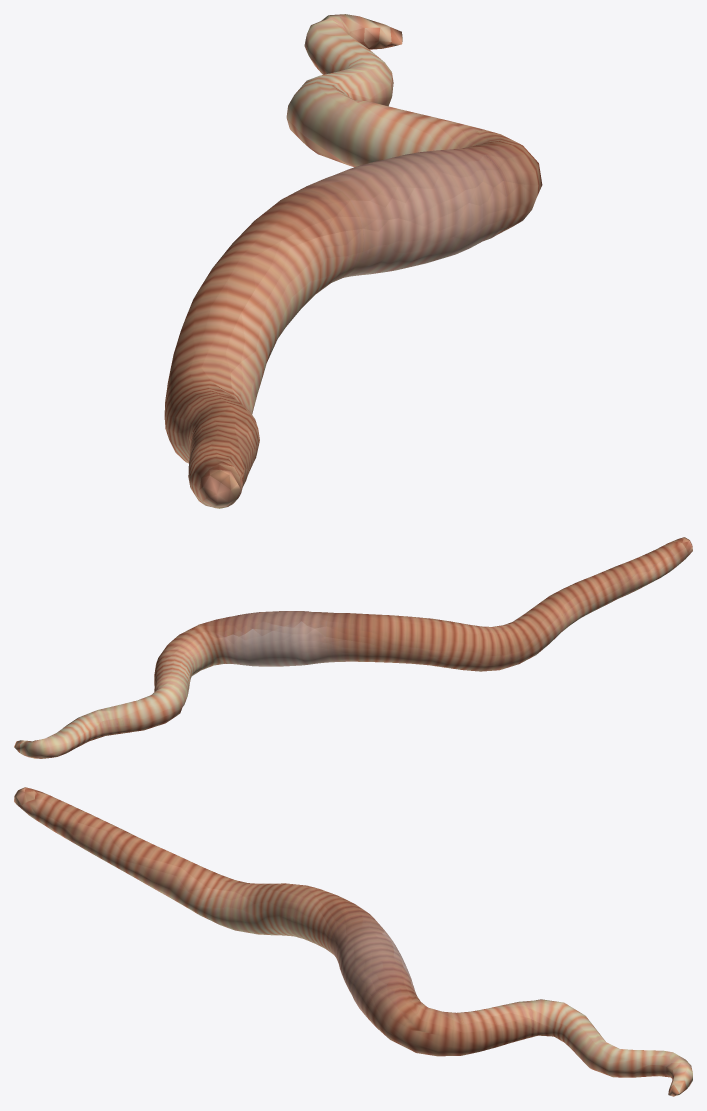
File: worm2.gltf
3 views of the same model, one above another, from view 1: azimuth 30°, elevation 25°; view 2: azimuth 150°, elevation 25°; view 3: azimuth 270°, elevation 25° (orthographic). The views are drawn at different scales.
Visible parts, largest first — view 1: Mesh_0.001; view 2: Mesh_0.001; view 3: Mesh_0.001.
Part boxes in pixels (x1=…): Mesh_0.001: x1=164, y1=14, x2=542, y2=508; Mesh_0.001: x1=14, y1=537, x2=692, y2=758; Mesh_0.001: x1=14, y1=787, x2=692, y2=1096.
Size of the model in its own units: 0.1308 by 0.0297 by 0.1764.
Materials: 1 (1 with a texture image).
